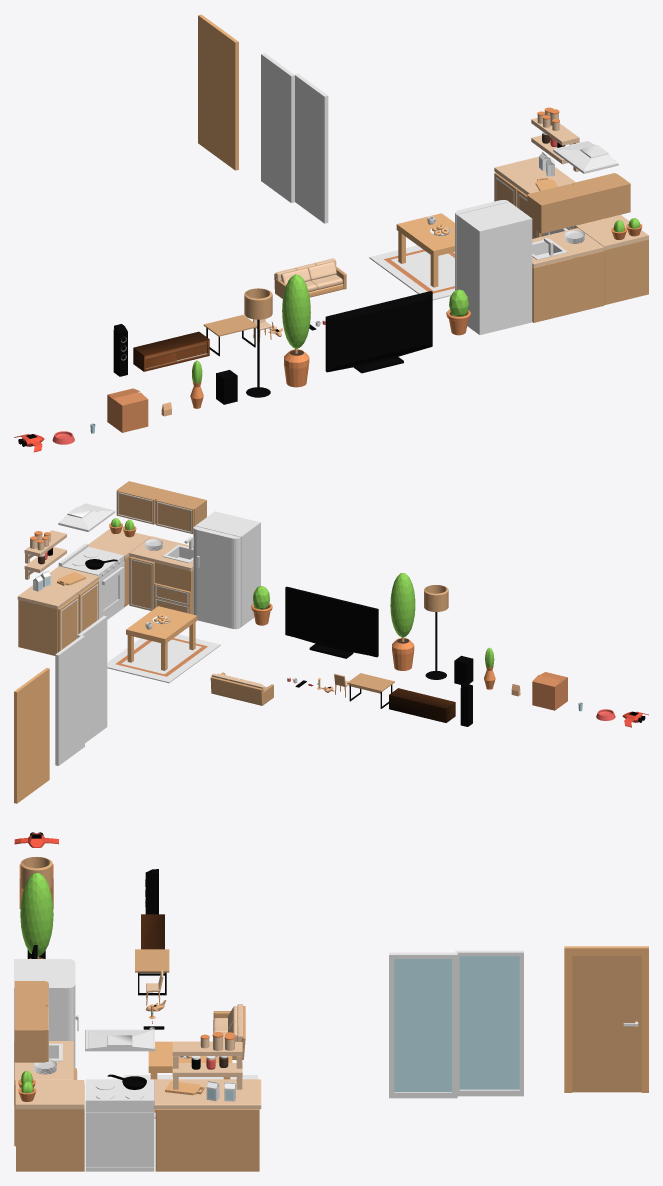
Rendered from Kitchen.fbx.
3 renders of one model, top to bottom at view 1: azimuth 30°, elevation 25°; view 2: azimuth 150°, elevation 25°; view 3: azimuth 270°, elevation 25°, orthographic. The views are drawn at different scales.
Visible parts, largest first — view 1: Fridge, Glassdor, TV, Counter with sink, Door, Wall shelf, Counter corner, MediumPot, Carpet, Counter, Table, Rack (+8 smaller); view 2: Fridge, Glassdor, Counter, TV, Counter with sink, Door, Wall shelf, Carpet, Stove, Table, MediumPot, Rack (+10 smaller); view 3: Glassdor, Door, Counter, Stove, Counter corner, Fridge, Wall shelf, MediumPot, Hood, Counter with sink, Table.001, Table (+7 smaller).
Boxes of the visible parts, x1=… form: Fridge: x1=455, y1=200, x2=532, y2=334; Glassdor: x1=261, y1=53, x2=328, y2=223; TV: x1=325, y1=291, x2=432, y2=373; Counter with sink: x1=532, y1=228, x2=604, y2=322; Door: x1=198, y1=14, x2=238, y2=170; Wall shelf: x1=527, y1=173, x2=630, y2=233; Counter corner: x1=573, y1=215, x2=648, y2=305; MediumPot: x1=282, y1=274, x2=310, y2=387; Carpet: x1=369, y1=245, x2=454, y2=300; Counter: x1=494, y1=156, x2=575, y2=238; Table: x1=396, y1=213, x2=454, y2=287; Rack: x1=133, y1=331, x2=209, y2=371; Fridge: x1=193, y1=511, x2=260, y2=629; Glassdor: x1=55, y1=616, x2=107, y2=765; Counter: x1=17, y1=566, x2=98, y2=655; TV: x1=285, y1=586, x2=378, y2=658; Counter with sink: x1=129, y1=536, x2=193, y2=614; Door: x1=14, y1=667, x2=49, y2=803; Wall shelf: x1=116, y1=481, x2=206, y2=533; Carpet: x1=107, y1=634, x2=220, y2=683; Stove: x1=58, y1=543, x2=124, y2=619; Table: x1=126, y1=606, x2=197, y2=670; MediumPot: x1=390, y1=573, x2=415, y2=670; Rack: x1=389, y1=688, x2=455, y2=722; Glassdor: x1=389, y1=950, x2=523, y2=1098; Door: x1=564, y1=946, x2=648, y2=1092; Counter: x1=154, y1=1079, x2=261, y2=1171; Stove: x1=85, y1=1079, x2=154, y2=1171; Counter corner: x1=15, y1=1080, x2=84, y2=1171; Fridge: x1=14, y1=959, x2=78, y2=1104; Wall shelf: x1=14, y1=981, x2=48, y2=1062; MediumPot: x1=20, y1=873, x2=53, y2=958; Hood: x1=85, y1=1029, x2=155, y2=1051; Counter with sink: x1=14, y1=1041, x2=77, y2=1146; Table.001: x1=135, y1=949, x2=169, y2=995; Table: x1=148, y1=1041, x2=232, y2=1079.
Bounding box in the file's own units: 2350 × 482 × 1848.
